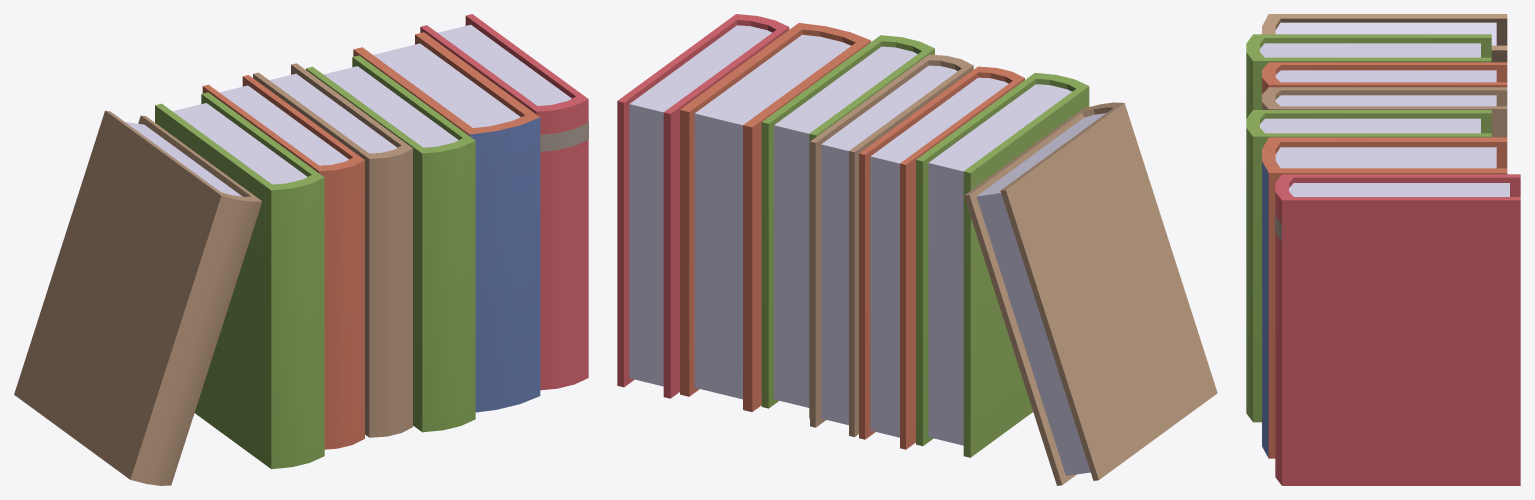
File: books2.fbx
The picture shows the model from 3 angles, left to right: view 1: azimuth 30°, elevation 25°; view 2: azimuth 150°, elevation 25°; view 3: azimuth 270°, elevation 25°; orthographic projection. The views are drawn at different scales.
Parts seen in each view (by area): view 1: books2; view 2: books2; view 3: books2.
Part boxes in pixels (x1=…): books2: x1=14, y1=14, x2=588, y2=485; books2: x1=617, y1=14, x2=1217, y2=485; books2: x1=1246, y1=14, x2=1520, y2=485.
Bounding box in the file's own units: 46.01 × 26.36 × 22.92.
